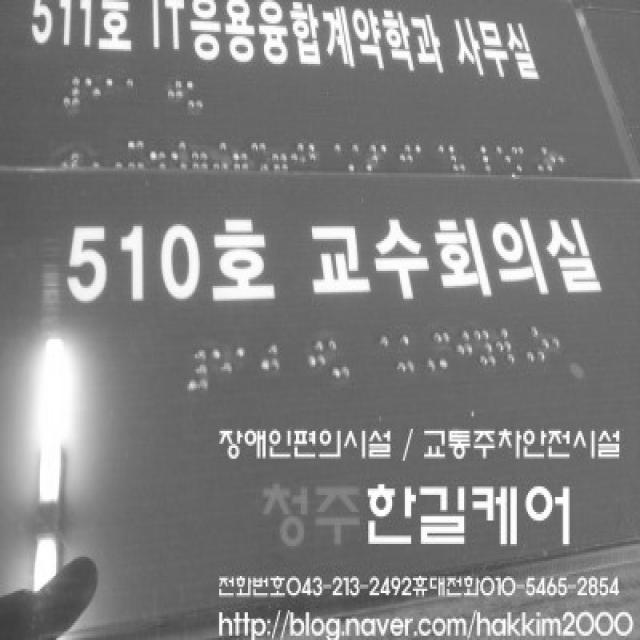braiile: (182, 346, 210, 394), (209, 344, 236, 391), (391, 332, 418, 379), (526, 320, 554, 365), (547, 319, 576, 362), (234, 342, 260, 386), (471, 327, 498, 369), (257, 341, 282, 386), (326, 336, 351, 381), (491, 325, 517, 368), (304, 338, 330, 380), (371, 334, 395, 379), (432, 331, 460, 369), (452, 329, 477, 370), (509, 328, 537, 364), (413, 333, 437, 373)
